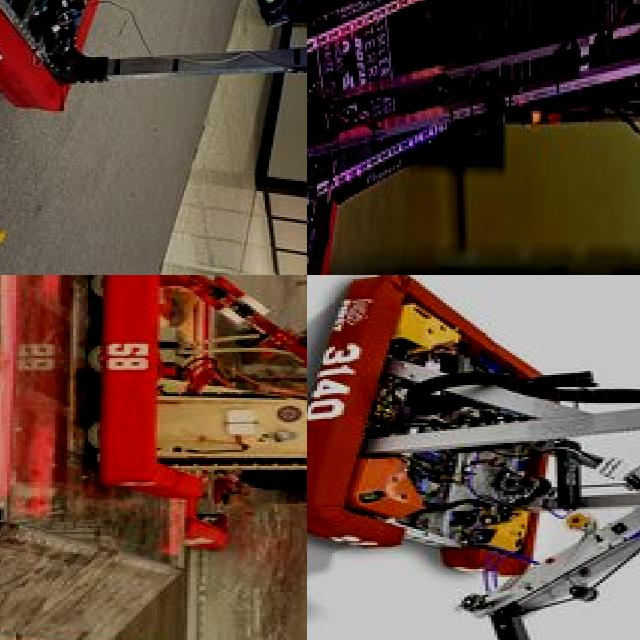FRC-Robots: (307, 275, 640, 640), (76, 275, 307, 640), (307, 0, 640, 237), (0, 0, 307, 167), (173, 483, 307, 554)
